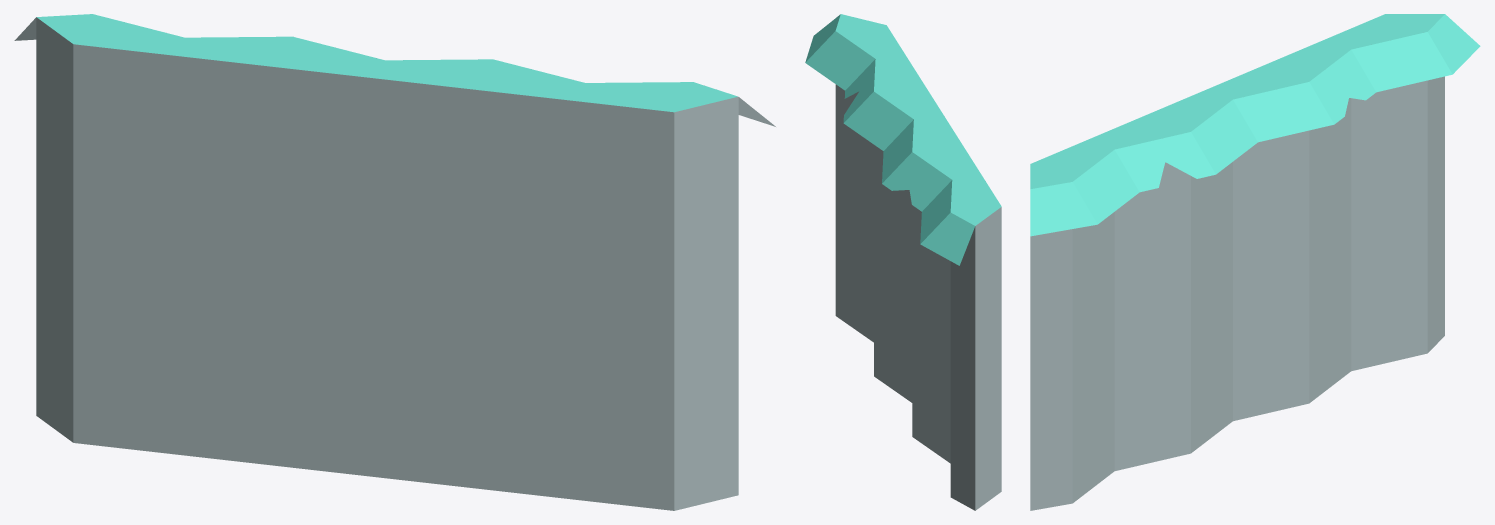
The model's file is cliff_topDiagonal_stone.glb.
3 renders of one model, left to right at view 1: azimuth 30°, elevation 25°; view 2: azimuth 150°, elevation 25°; view 3: azimuth 270°, elevation 25°, orthographic. The views are drawn at different scales.
Visible parts, largest first — view 1: cliff_topDiagonal_stone; view 2: cliff_topDiagonal_stone; view 3: cliff_topDiagonal_stone.
Part boxes in pixels (box(x1,y1,x2,y2)): cliff_topDiagonal_stone: box(14, 14, 775, 510); cliff_topDiagonal_stone: box(805, 14, 1001, 510); cliff_topDiagonal_stone: box(1030, 14, 1480, 510).
Size of the model in its own units: 1.27 by 1 by 1.27.
